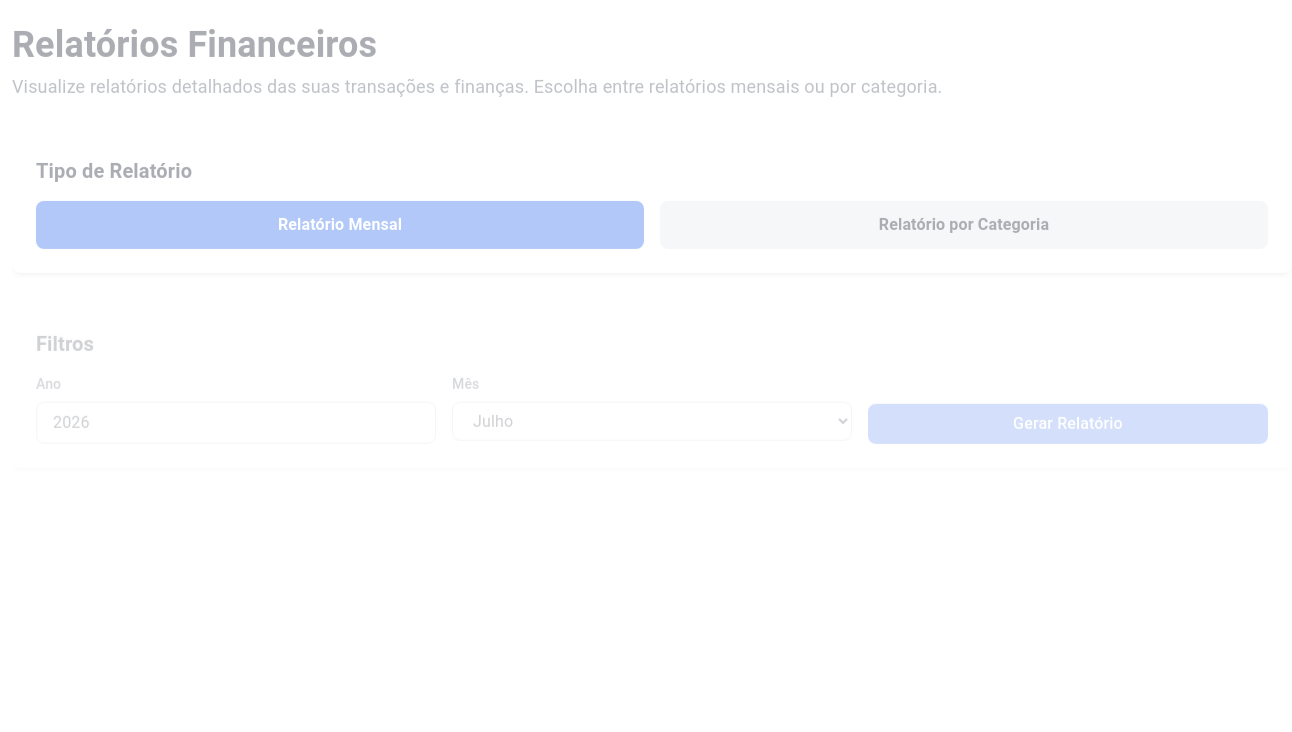
Test: ReportsPage Component › ReportsPage Component › should display summary cards after report loads
This screenshot has width=1292, height=732.
Step 1. Click the button "Gerar Relatório" → [1068, 424], box [868, 404, 1268, 444]
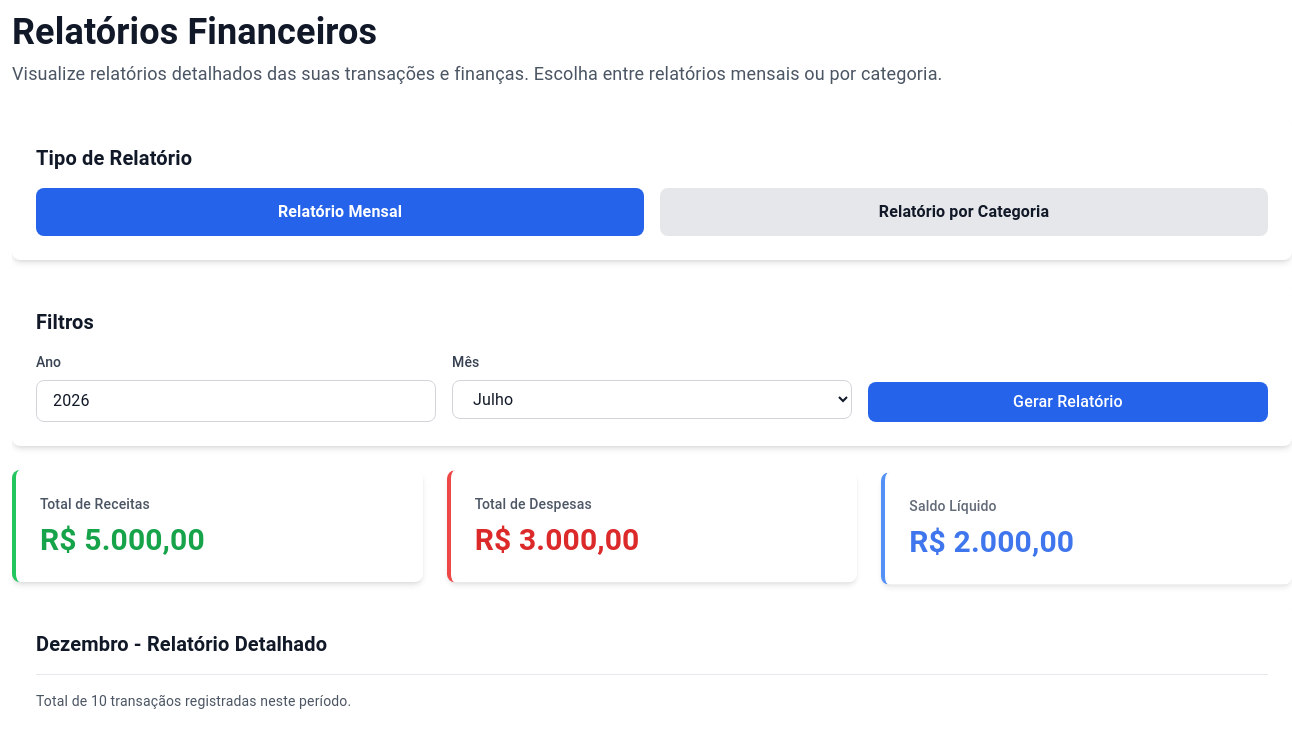
Check: the text "Total de Receitas" is shown, box [40, 496, 150, 512]
Check: the text "Total de Despesas" is shown, box [475, 496, 592, 512]
Check: the text "Saldo Líquido" is shown, box [909, 498, 997, 514]
